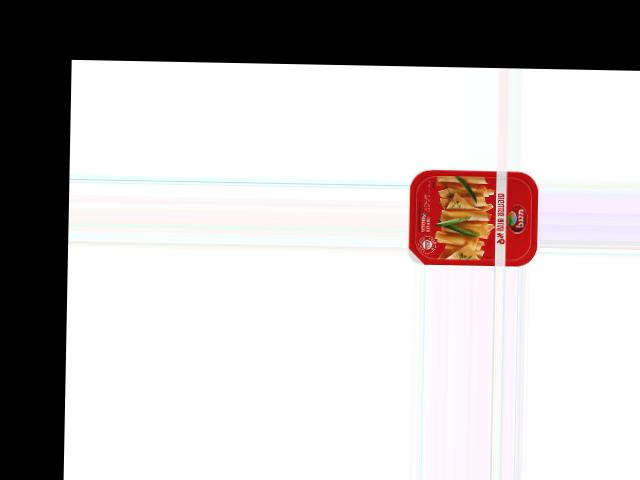cheese: (408, 168, 539, 266)
